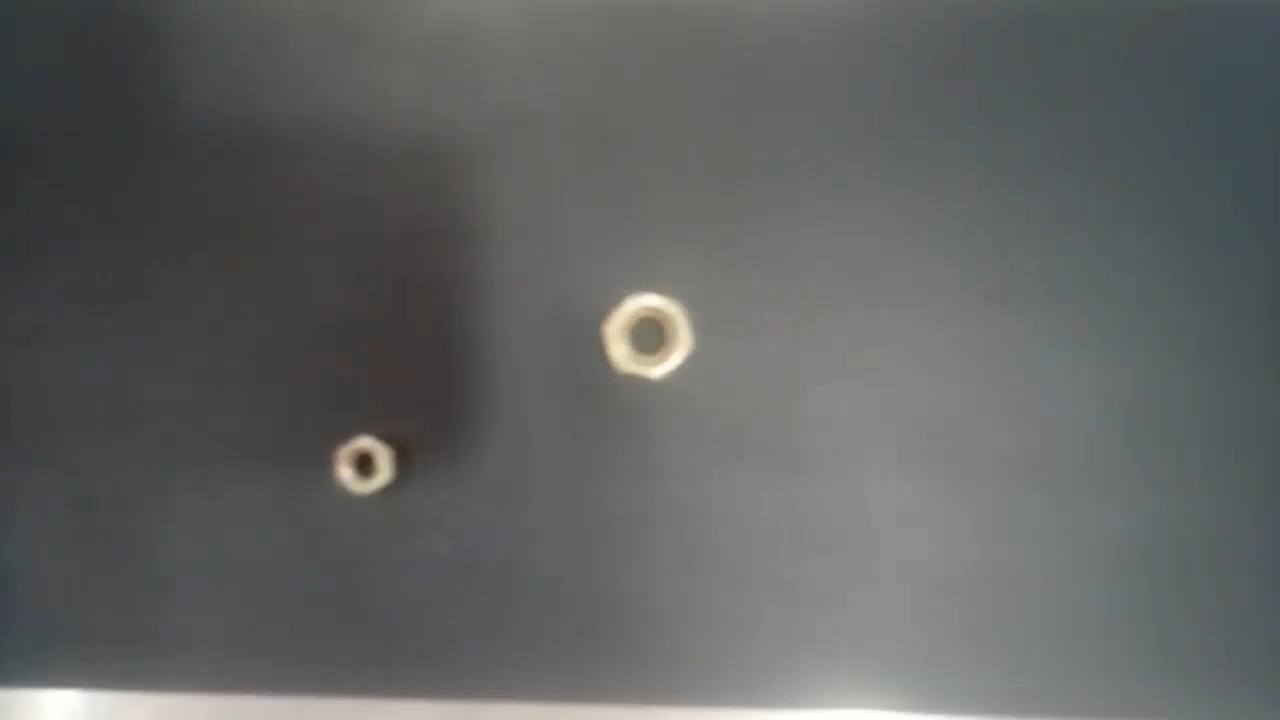Bolt: (598, 290, 700, 381), (328, 430, 409, 500)
